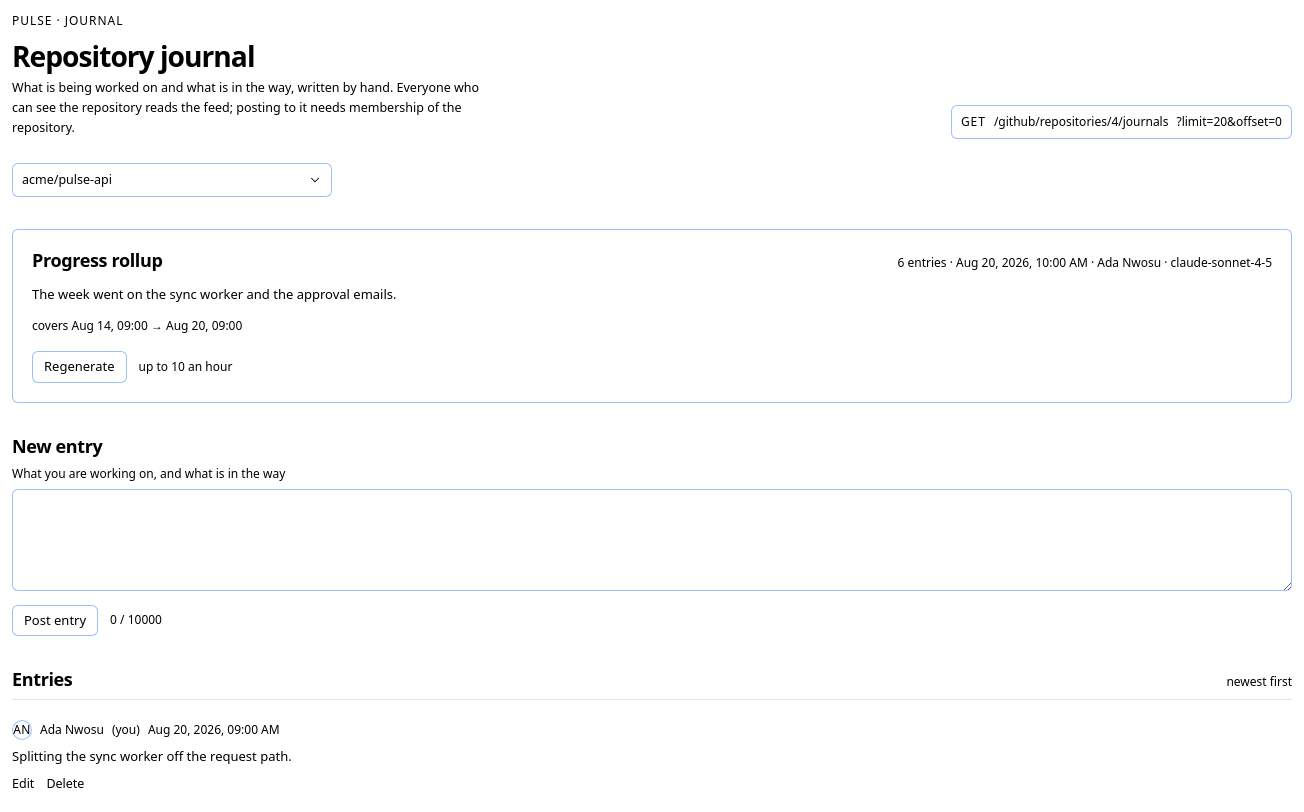
it: /journal · the rollup › replaces the summary in place when a new one is generated
The width and height of the screenshot is (1304, 812).
Click the button with test id "rollup-generate": [79, 367] box [32,351,126,383]
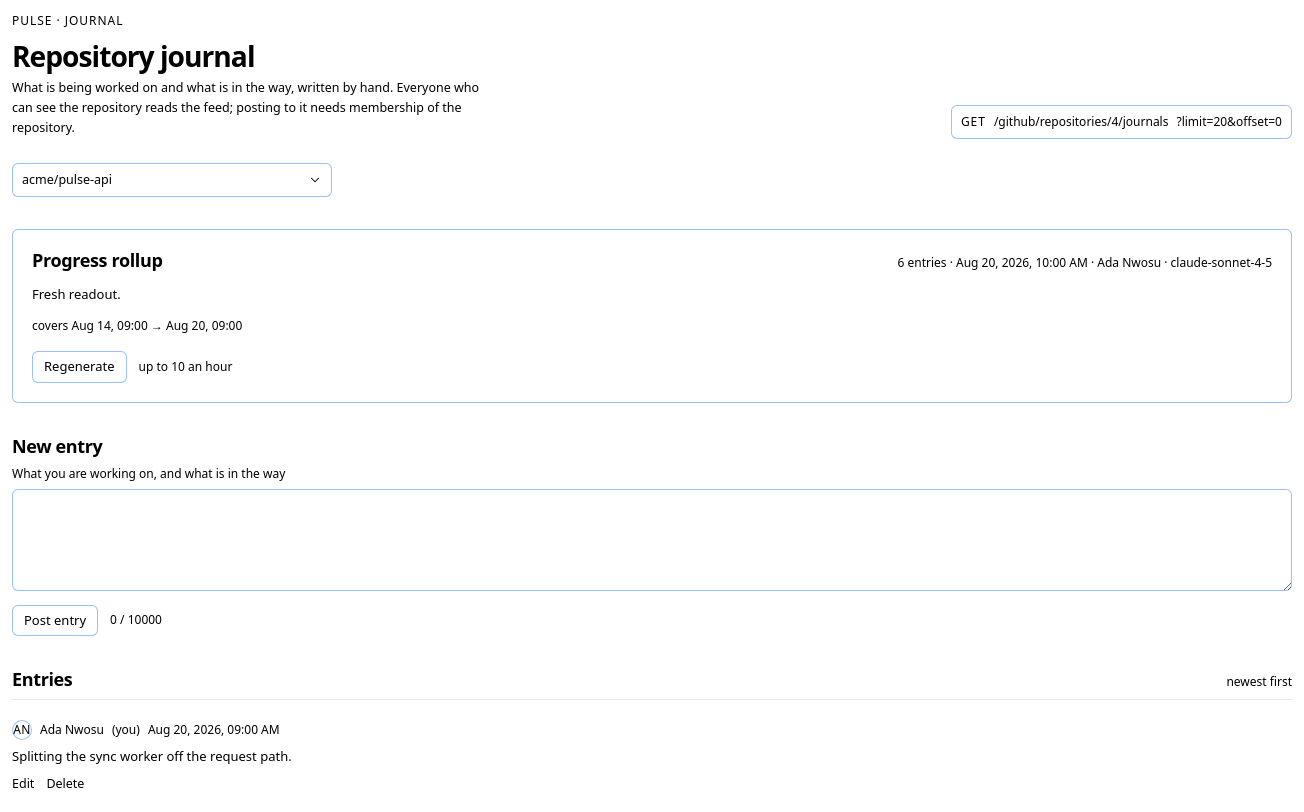
Now the text "Fresh readout." is shown, box [32,285,121,303]
